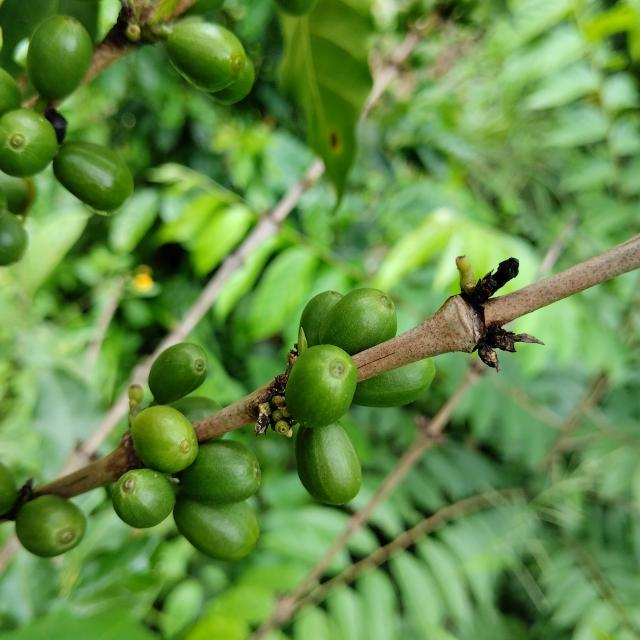green: (284, 345, 357, 428), (52, 141, 133, 214), (165, 19, 246, 92), (25, 14, 92, 99), (173, 497, 259, 562), (295, 422, 361, 506), (176, 441, 261, 505), (319, 288, 398, 356), (130, 406, 198, 474), (15, 495, 85, 558), (353, 358, 436, 408), (0, 108, 57, 177), (111, 469, 175, 529), (148, 343, 207, 405), (300, 291, 344, 347), (208, 56, 255, 104)
